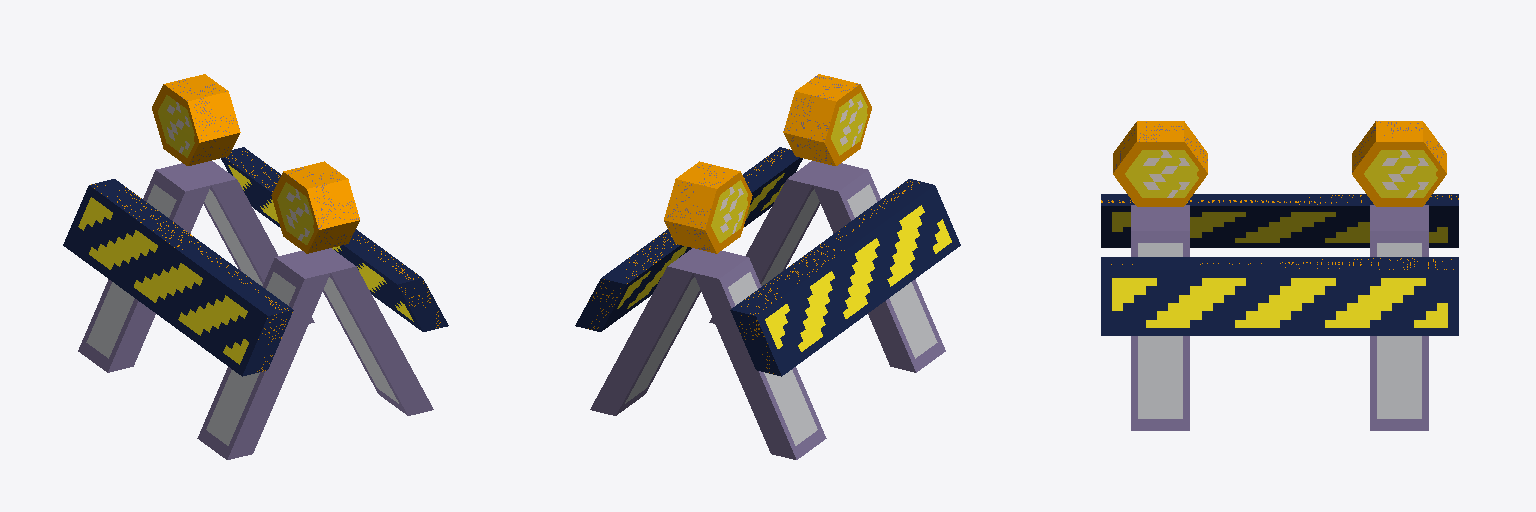
3 renders of one model, left to right at view 1: azimuth 30°, elevation 25°; view 2: azimuth 150°, elevation 25°; view 3: azimuth 270°, elevation 25°, orthographic.
Parts seen in each view (by area): view 1: warning; view 2: warning; view 3: warning.
Part boxes in pixels (bbox=[...]): warning: bbox=[63, 74, 448, 459]; warning: bbox=[575, 74, 960, 459]; warning: bbox=[1101, 121, 1458, 430].
Size of the model in its own units: 4 by 4.6 by 6.
1 materials, 1 textured.